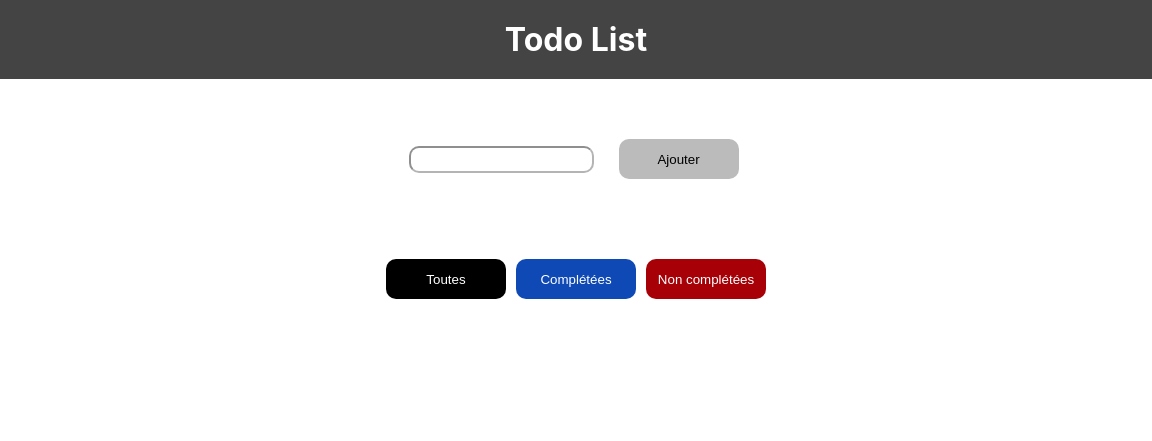
Test: TaskList Component › Devrait afficher une liste de tâches
The image size is (1152, 441).
Type "Tâche 1" into the field with test id "task-input" at (502, 160), box x1=409 y1=146 x2=594 y2=173
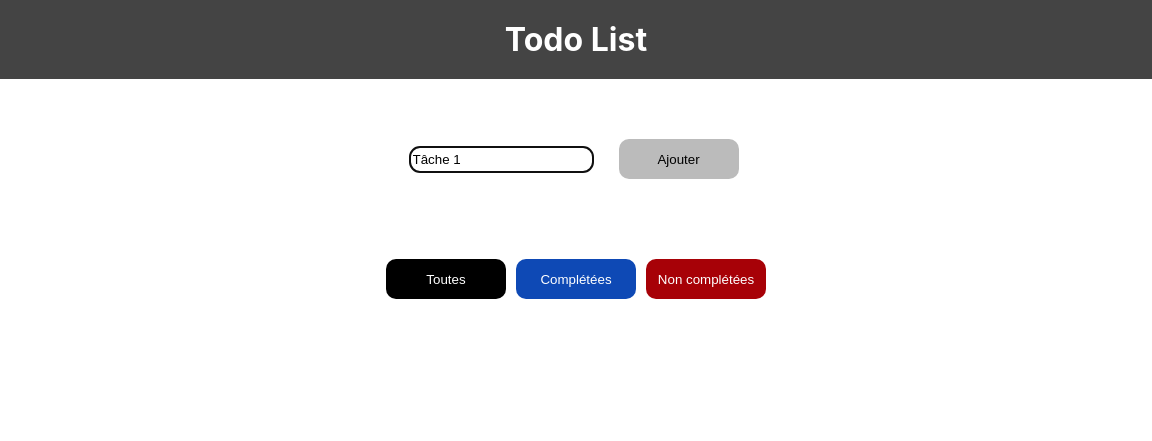
Click the button with test id "add-task-btn" at (679, 159), box x1=619 y1=139 x2=739 y2=179
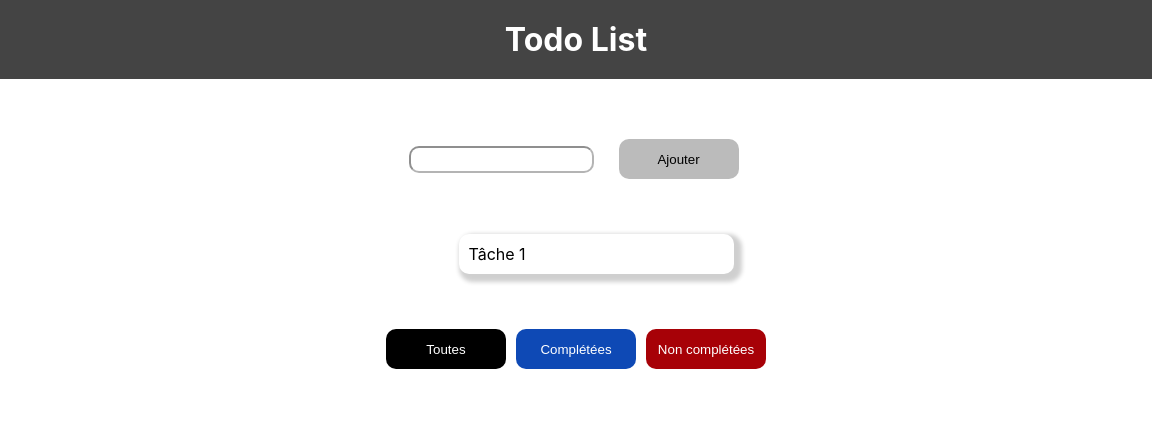
Type "Tâche 2" into the field with test id "task-input" at (502, 160), box x1=409 y1=146 x2=594 y2=173
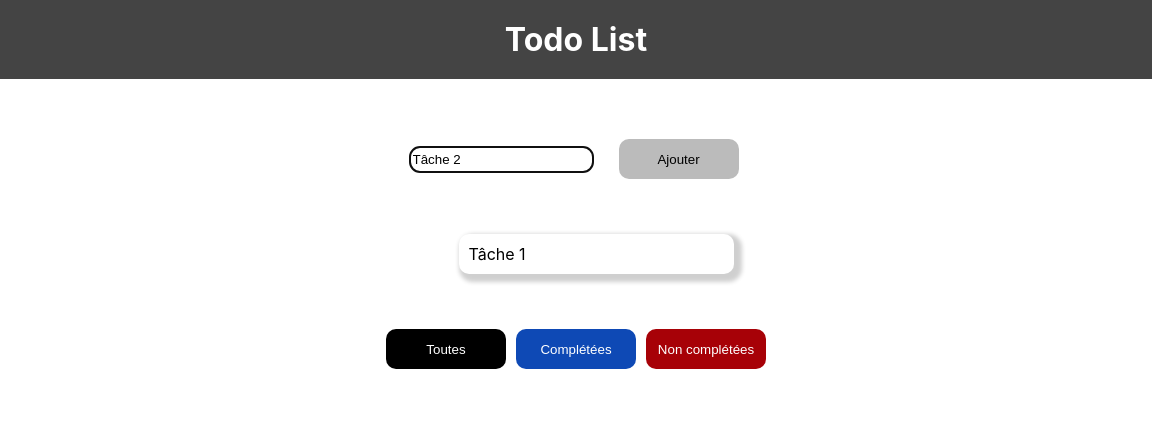
Click the button with test id "add-task-btn" at (679, 159), box x1=619 y1=139 x2=739 y2=179
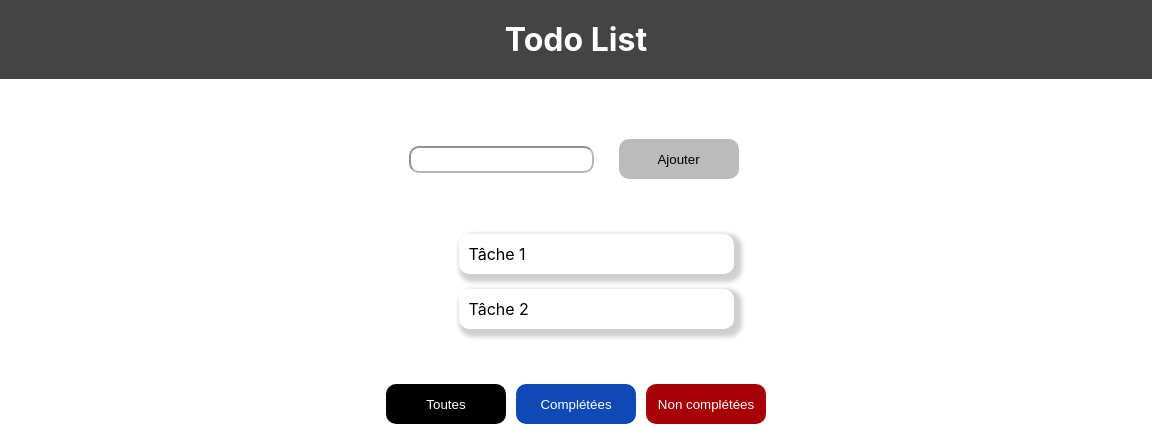
Expected: the number of list items with test id "task-item" is 2, x1=458 y1=234 x2=734 y2=274; x1=458 y1=289 x2=734 y2=329
